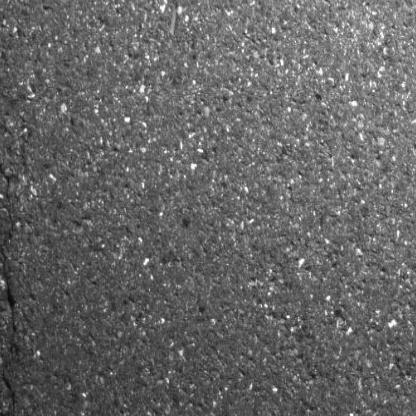Cracks: (0, 167, 24, 408)
